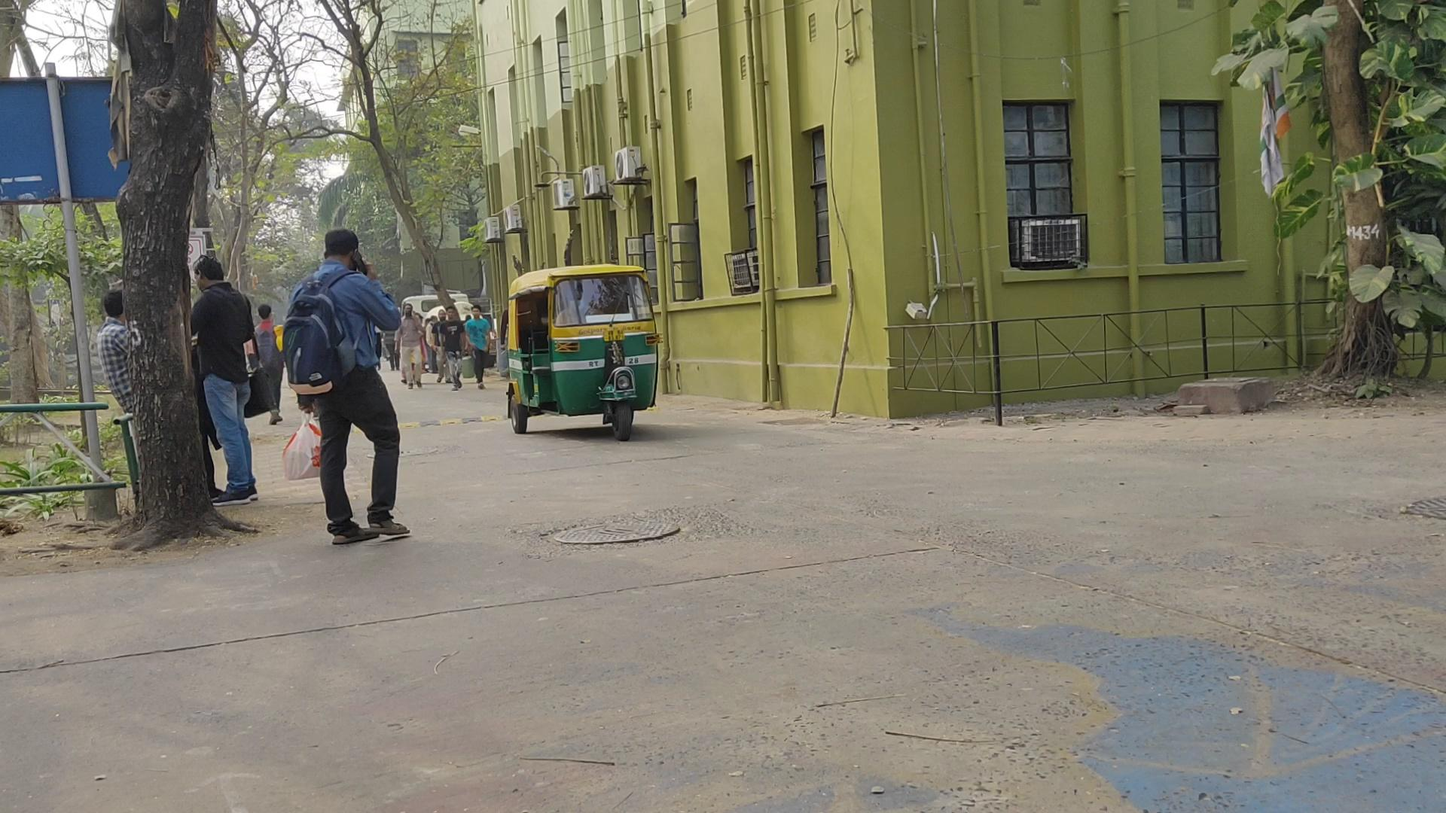Auto: (506, 265, 662, 442)
